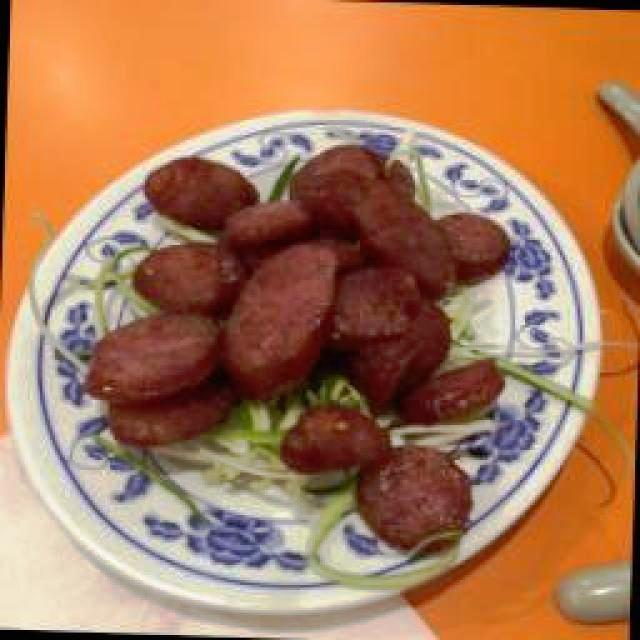chinese_sausage: (86, 146, 510, 550)
